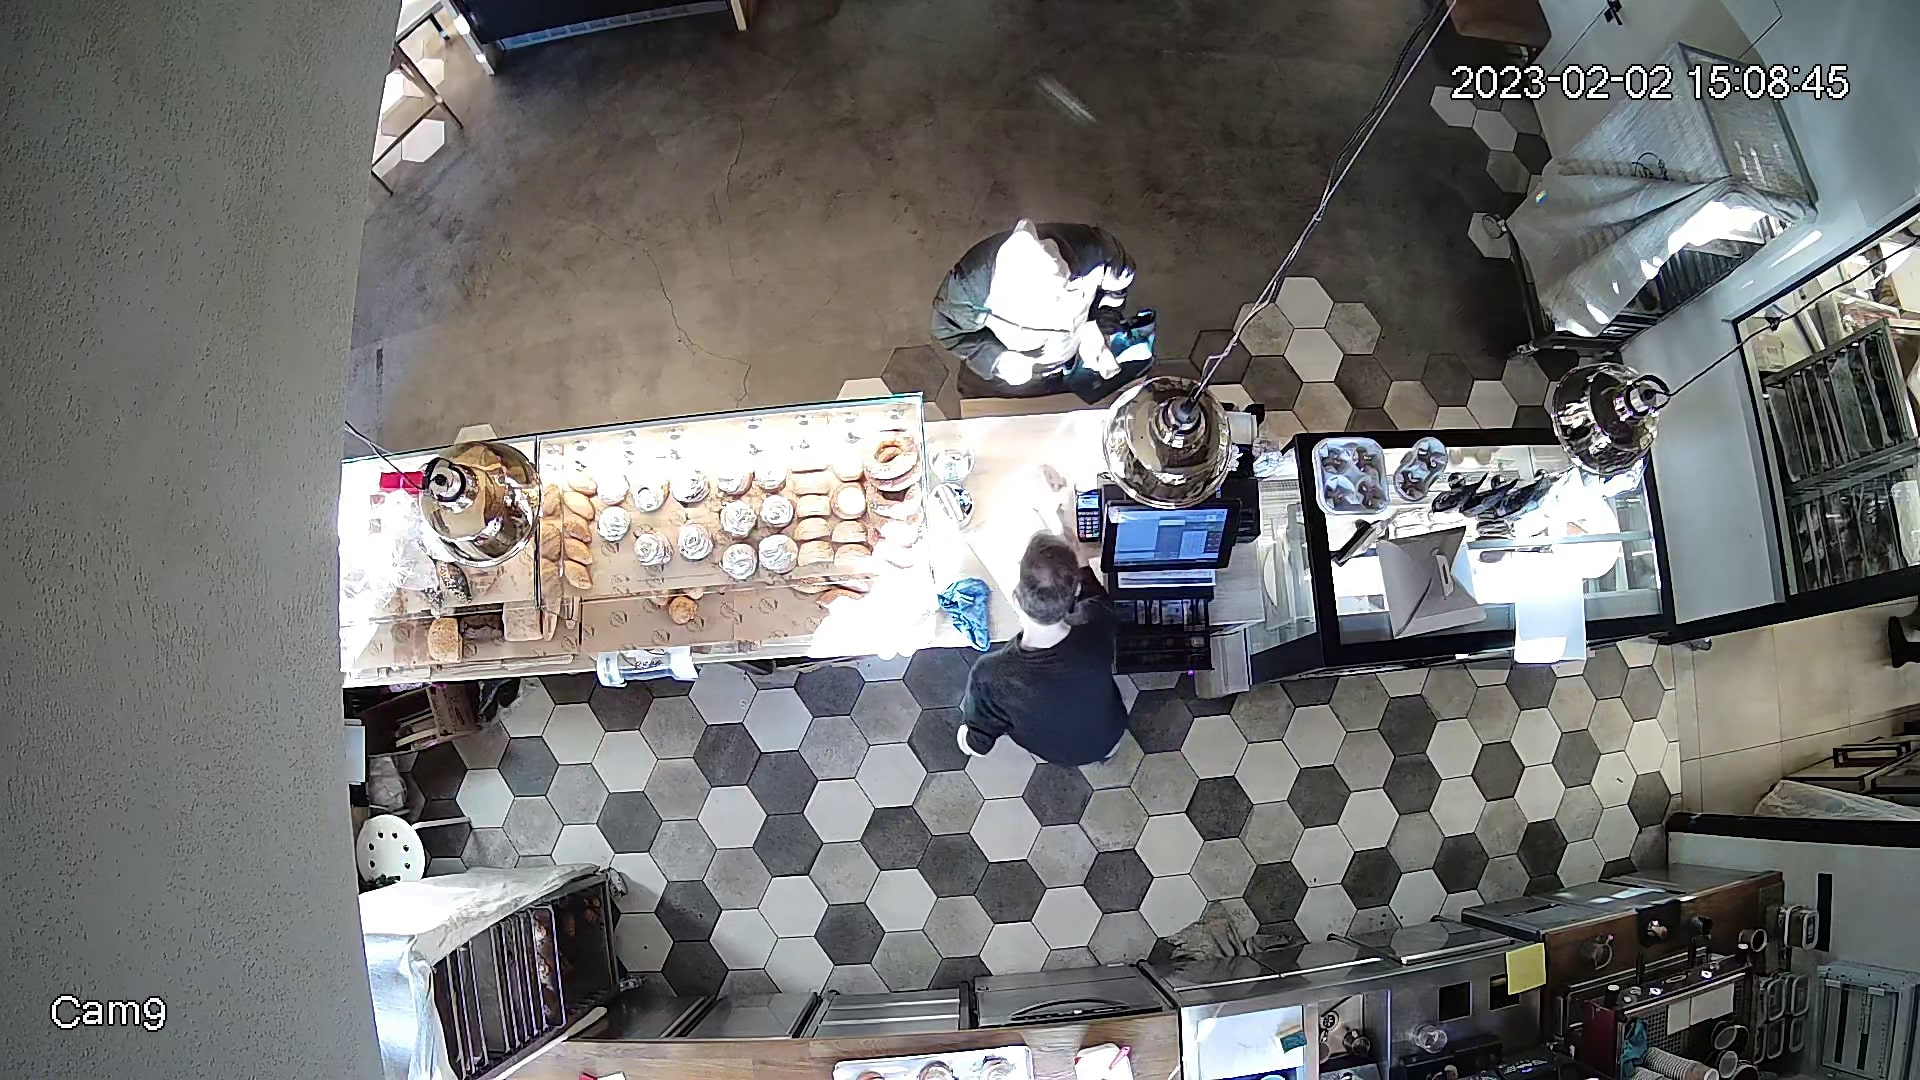barcounter: (342, 406, 1676, 670)
openedcash: (1105, 507, 1237, 677)
person: (913, 221, 1155, 386), (958, 571, 1151, 774)
